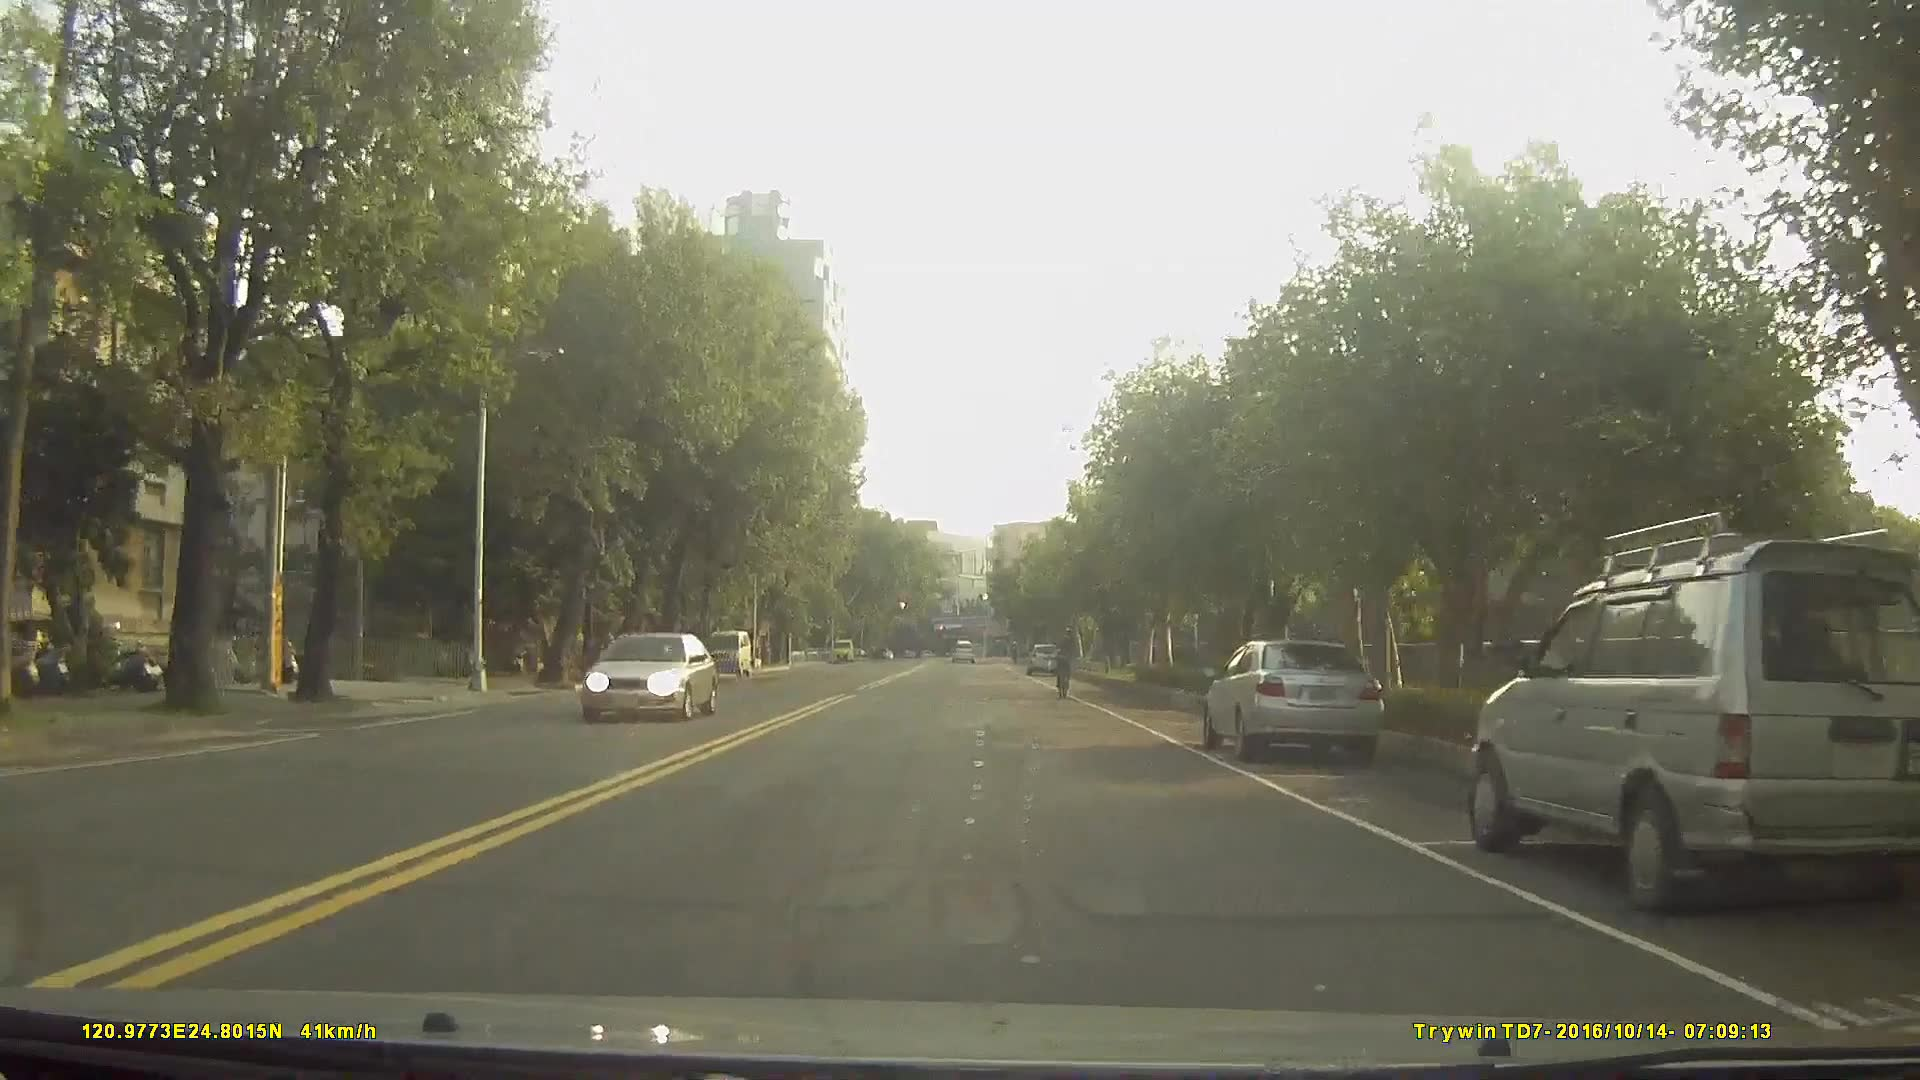rider: (1055, 620, 1081, 703)
vehicle: (1466, 534, 1920, 909), (1201, 636, 1385, 758), (579, 631, 719, 724), (618, 637, 682, 687), (701, 625, 751, 676), (1024, 638, 1062, 675), (949, 637, 977, 666)
